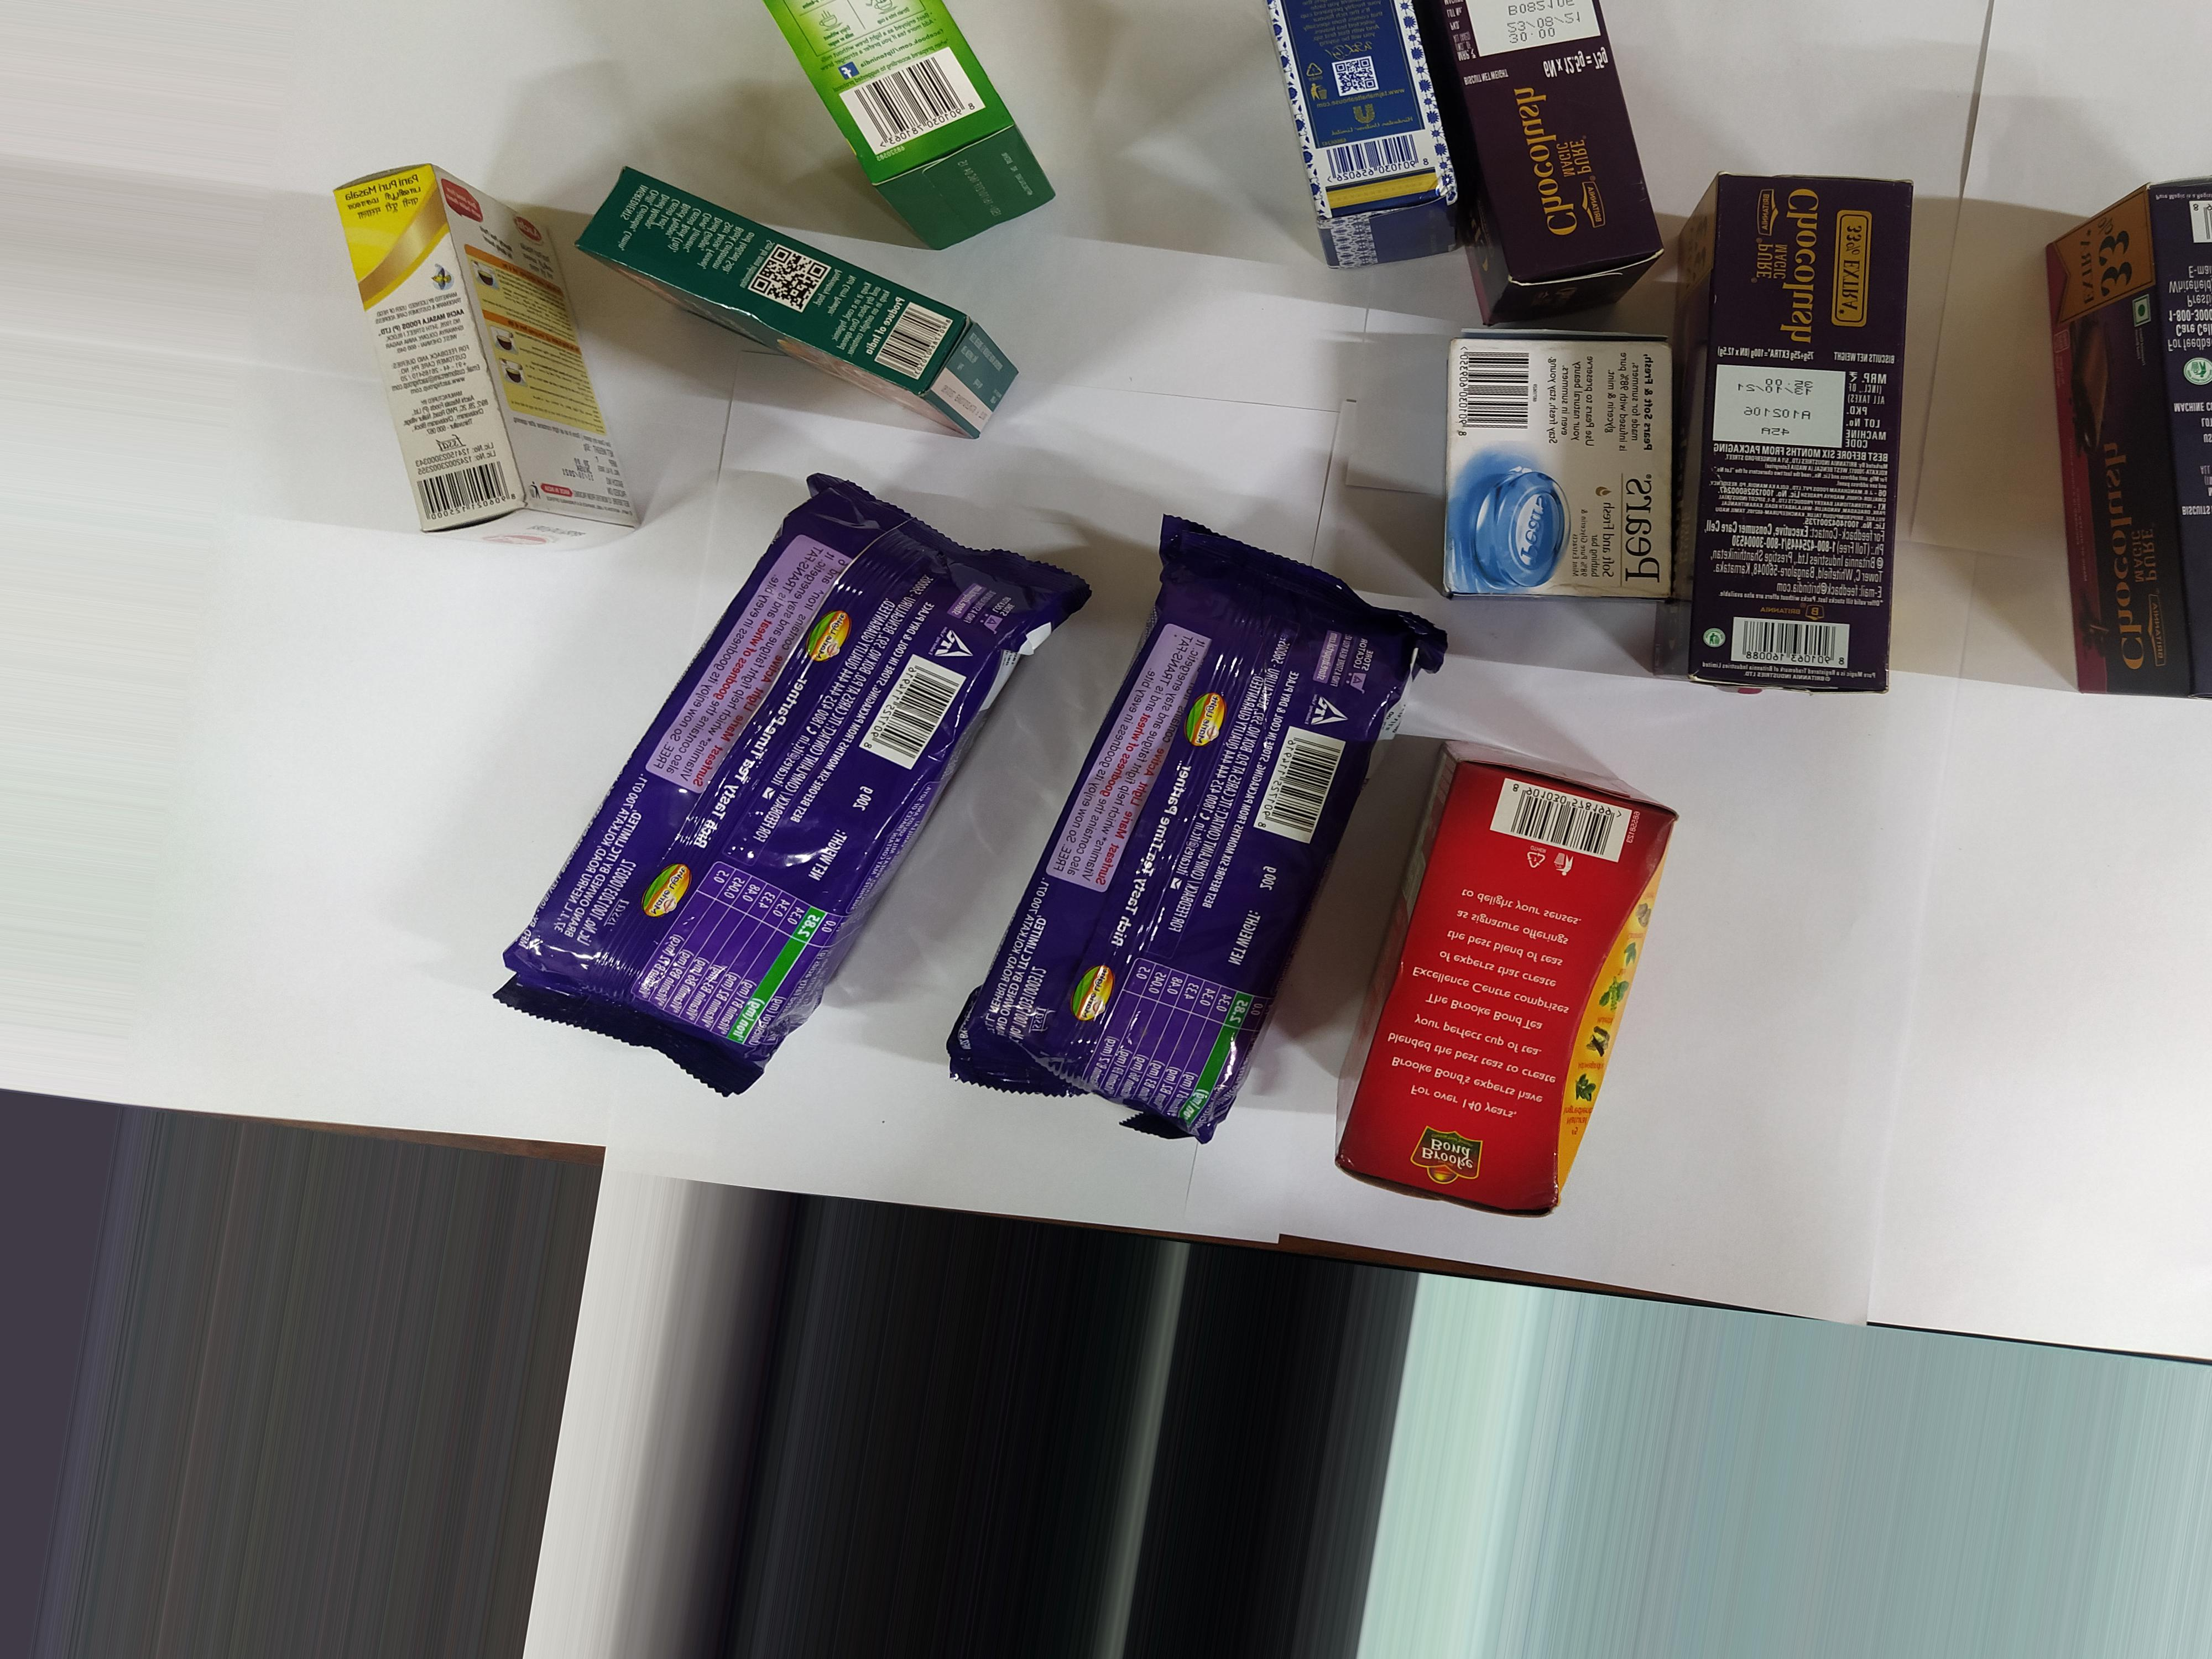Bar_code: (1474, 760, 1662, 892), (813, 49, 995, 155), (866, 279, 970, 406), (862, 648, 954, 782), (1726, 608, 1879, 681), (1263, 718, 1334, 861), (408, 455, 531, 532), (1446, 347, 1543, 443), (1306, 132, 1432, 183)
Item: (557, 504, 1026, 1188), (1045, 518, 1359, 1141), (1348, 739, 1716, 1263), (1662, 139, 1935, 739), (310, 155, 681, 589), (583, 138, 1055, 458), (2008, 146, 2212, 749), (1402, 298, 1719, 648), (1421, 0, 1677, 319), (1231, 0, 1505, 296)
QR_code: (749, 251, 833, 321), (1325, 63, 1395, 106)
